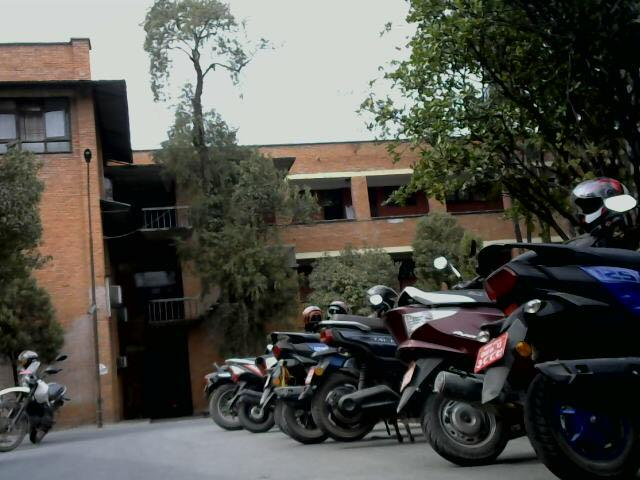Building: (274, 136, 544, 281)
Electrical Pole: (74, 139, 136, 430)
Motorcycle: (471, 216, 634, 480), (200, 280, 395, 464), (378, 276, 504, 469), (1, 335, 59, 454)
Road: (50, 432, 578, 480)
Tree: (134, 6, 311, 324), (372, 0, 640, 161)
